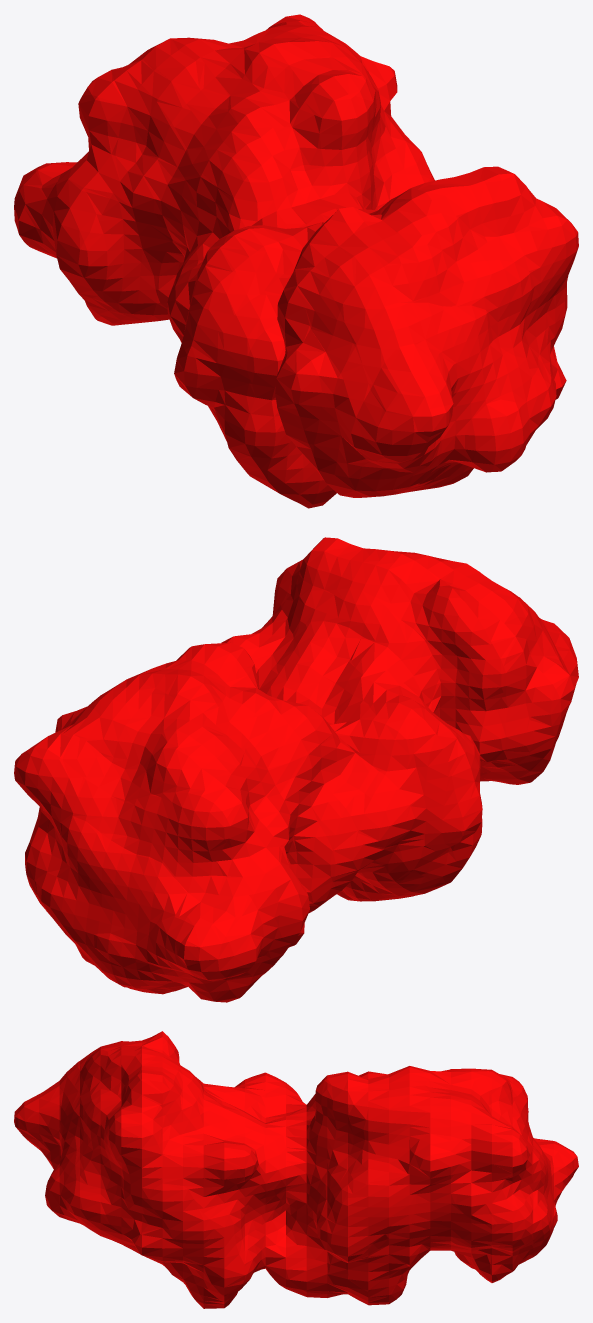
The model's file is rnt_coarse.dae.
3 views of the same model, one above another, from view 1: azimuth 30°, elevation 25°; view 2: azimuth 150°, elevation 25°; view 3: azimuth 270°, elevation 25° (orthographic). The views are drawn at different scales.
Visible parts, largest first — view 1: rnt; view 2: rnt; view 3: rnt.
Boxes of the visible parts, x1,y1,x2,y2 form: rnt: (14,14,578,508); rnt: (14,537,578,1002); rnt: (14,1031,578,1308).
Bounding box in the file's own units: 60.01 × 57.18 × 123.
